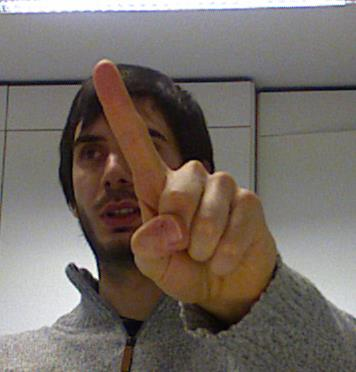up: (80, 54, 272, 308)
